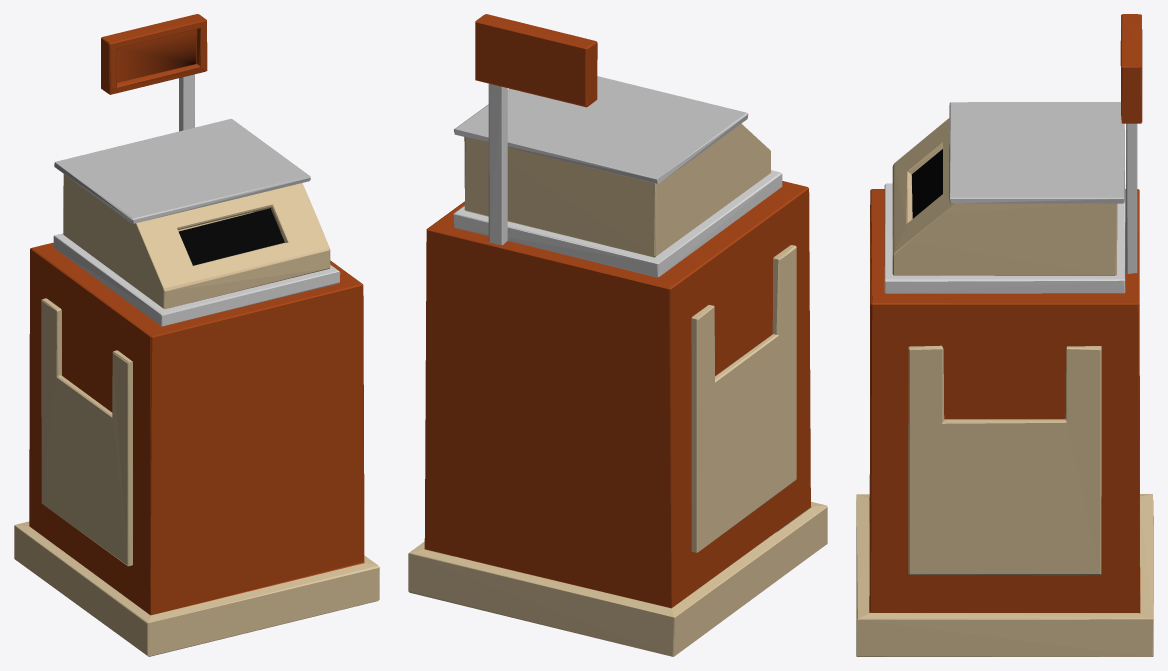
File: ss-kiosk.lod1.glb
The picture shows the model from 3 angles, left to right: view 1: azimuth 30°, elevation 25°; view 2: azimuth 150°, elevation 25°; view 3: azimuth 270°, elevation 25°; orthographic projection. The views are drawn at different scales.
Parts seen in each view (by area): view 1: Object_84; view 2: Object_84; view 3: Object_84.
Part boxes in pixels (x1,y1,x2,y2): Object_84: (14,14,379,656); Object_84: (408,14,827,656); Object_84: (856,14,1153,656).
Size of the model in its own units: 1.01 by 2.1 by 1.01.
